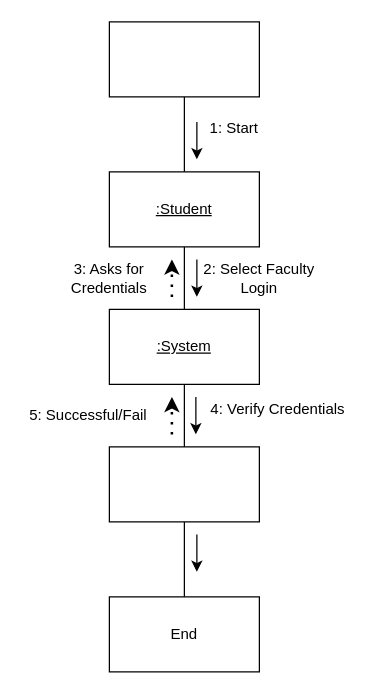
This 380x694 diagram has some shape labels left out. The centre of each missing label's shape, as x and y in pixels:
":Authentication" belongs at point (183, 484).
"Initialization" belongs at point (183, 59).
